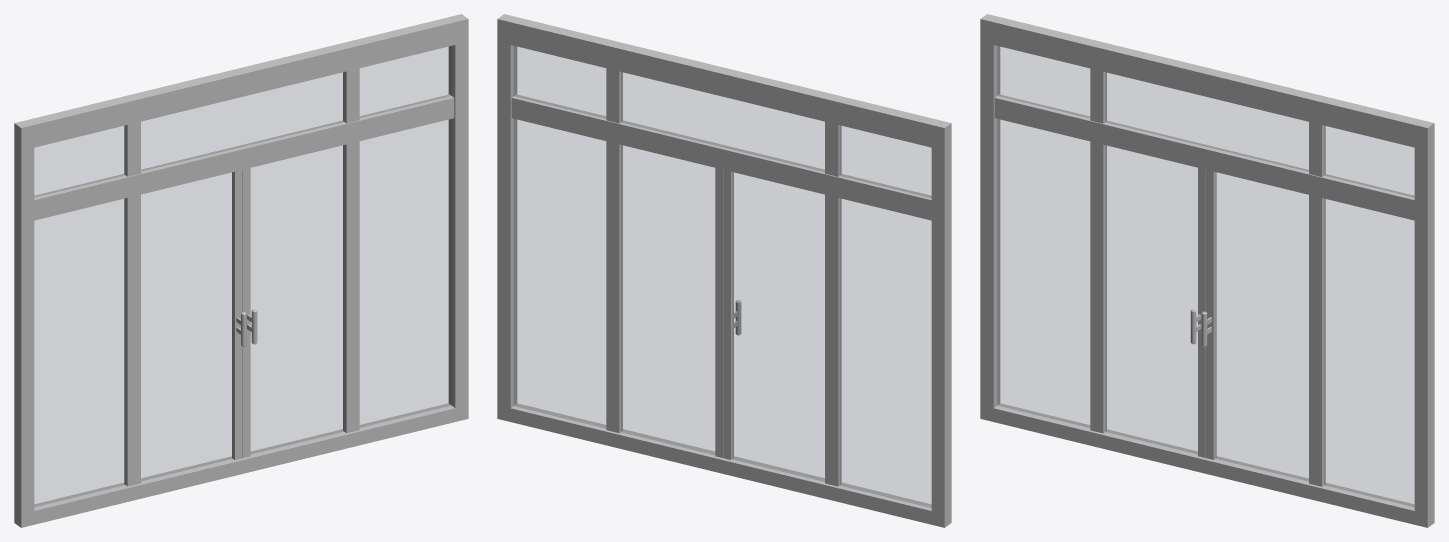
File: SM_StoreFront_Door01_e01e3047.fbx
The picture shows the model from 3 angles, left to right: view 1: azimuth 30°, elevation 25°; view 2: azimuth 150°, elevation 25°; view 3: azimuth 330°, elevation 25°; orthographic projection.
Parts seen in each view (by area): view 1: SM_StoreFront_Door01; view 2: SM_StoreFront_Door01; view 3: SM_StoreFront_Door01.
Part boxes in pixels (bbox=[...]): SM_StoreFront_Door01: bbox=[14, 14, 468, 527]; SM_StoreFront_Door01: bbox=[497, 14, 951, 527]; SM_StoreFront_Door01: bbox=[980, 14, 1434, 527].
Size of what is drawn, in the model's own units: 405 by 20.2 by 346.
